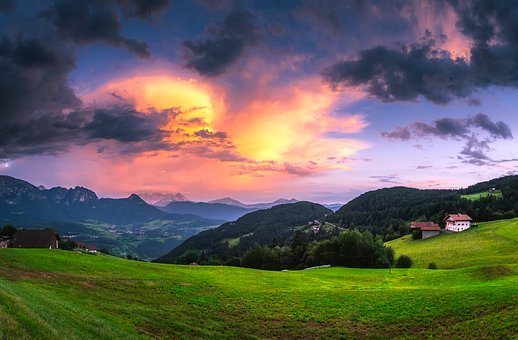field: (4, 250, 518, 335)
mountain: (3, 181, 518, 339)
sky: (1, 1, 518, 181)
